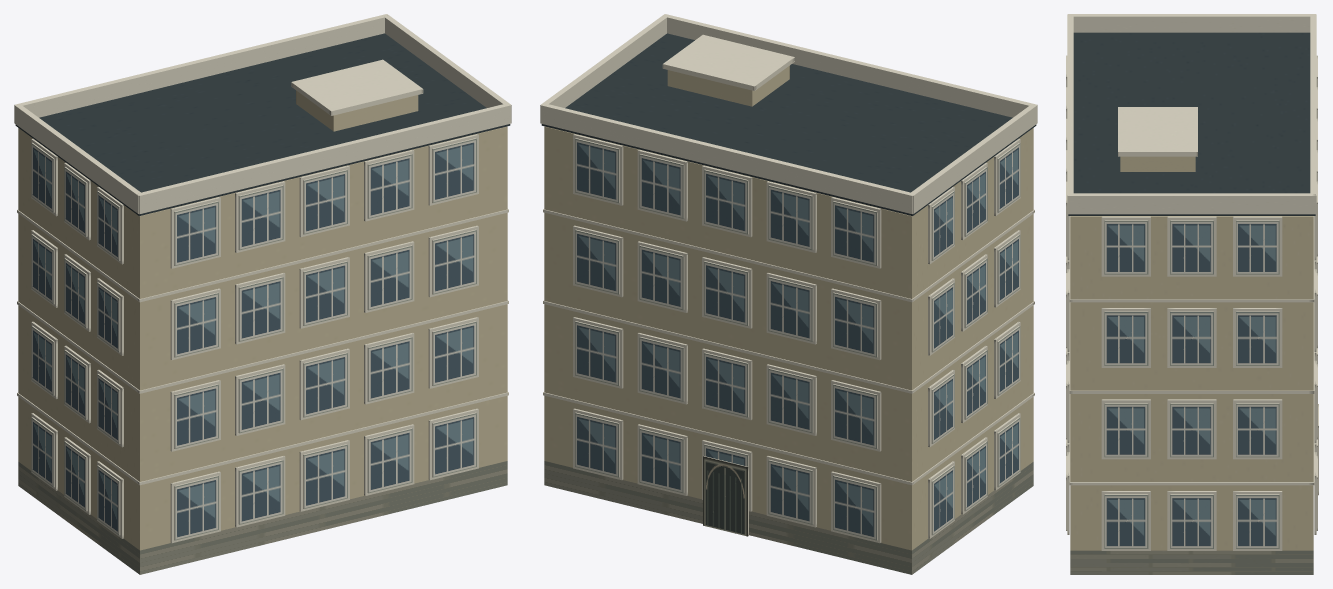
File: SM_QD_School_PerimeterWing.fbx
3 views of the same model, side by side, from view 1: azimuth 30°, elevation 25°; view 2: azimuth 150°, elevation 25°; view 3: azimuth 270°, elevation 25° (orthographic).
Parts seen in each view (by area): view 1: SM_QD_School_PerimeterWing; view 2: SM_QD_School_PerimeterWing; view 3: SM_QD_School_PerimeterWing.
Part boxes in pixels (bbox=[...]): SM_QD_School_PerimeterWing: bbox=[14, 14, 511, 574]; SM_QD_School_PerimeterWing: bbox=[540, 14, 1037, 574]; SM_QD_School_PerimeterWing: bbox=[1066, 14, 1318, 574].
Bounding box in the file's own units: 8.37 × 4.89 × 8.39.
